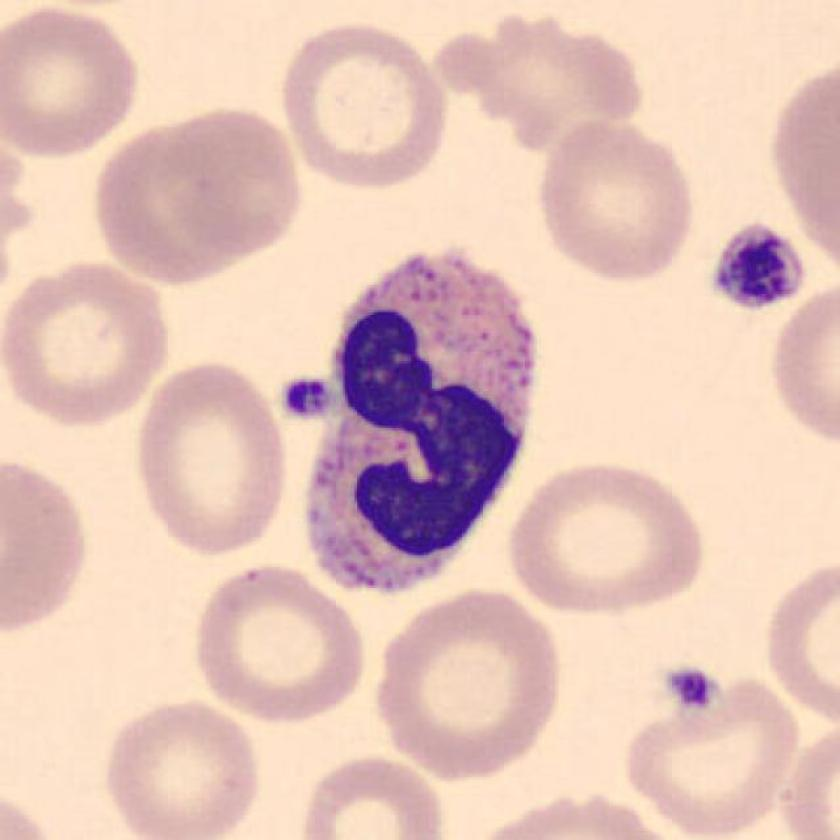neutrophil: (305, 253, 538, 593)
